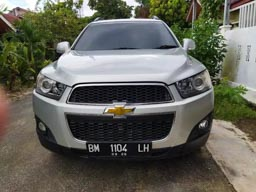plat: (87, 143, 151, 152)
